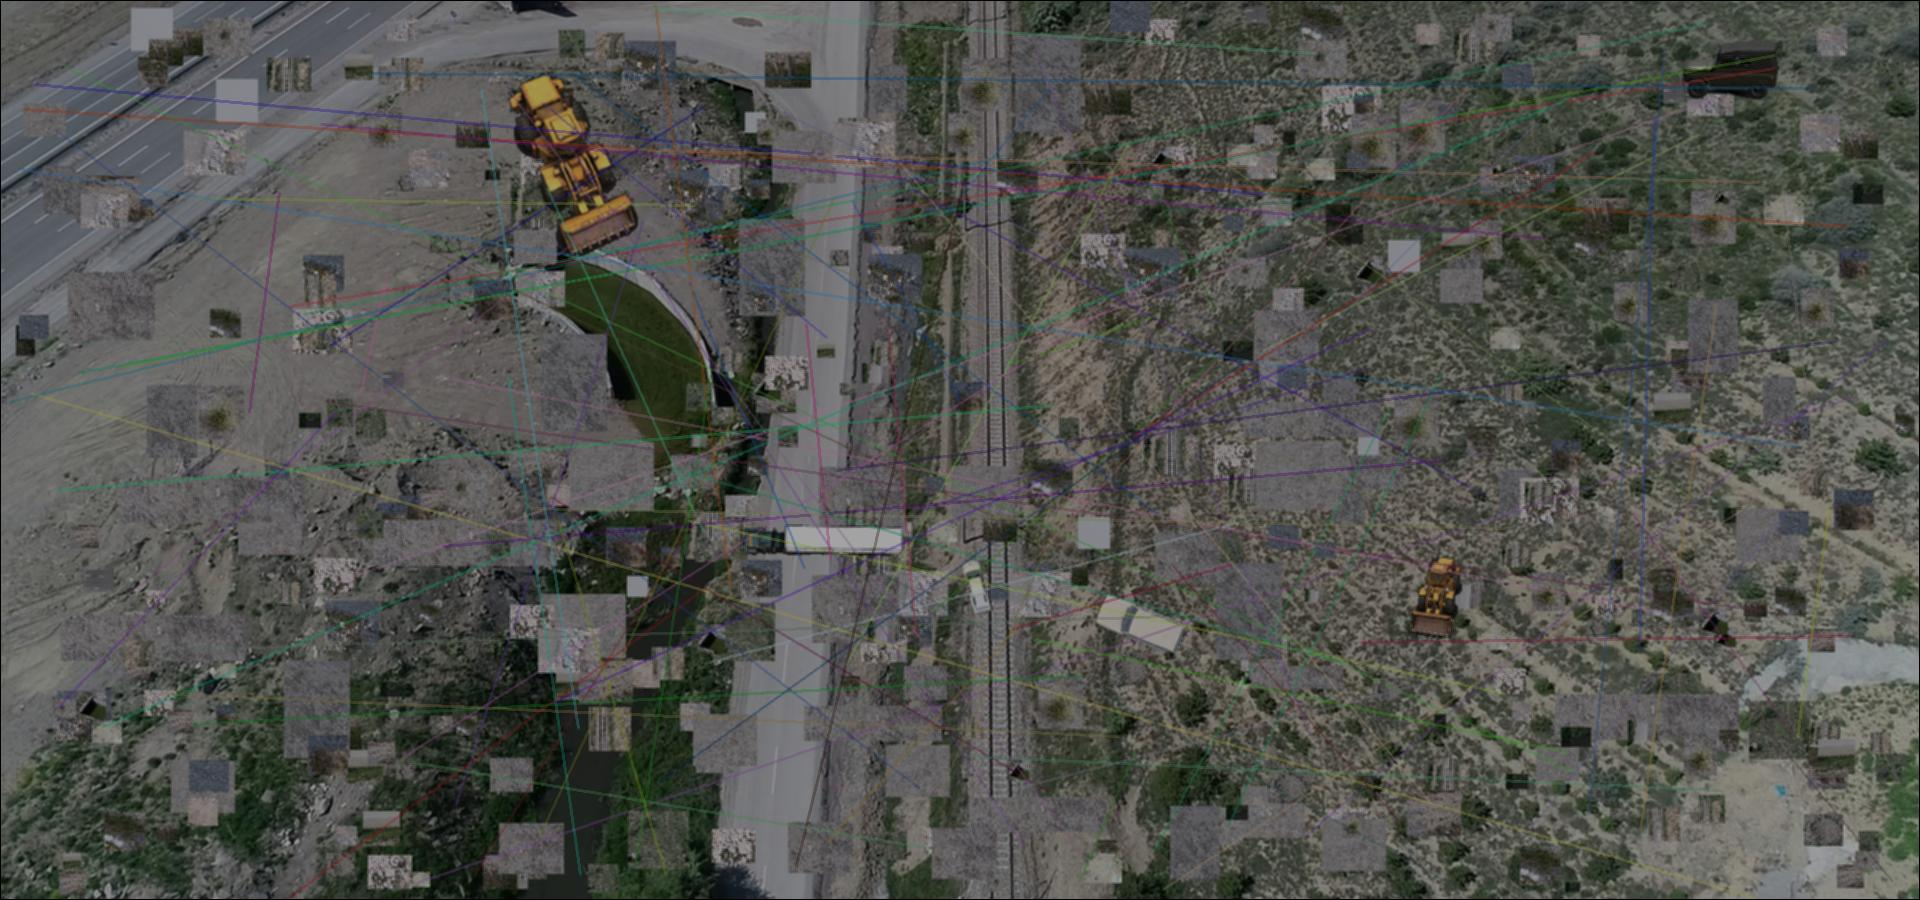arac: (493, 72, 650, 258), (743, 522, 907, 562), (1090, 591, 1189, 651), (1400, 550, 1464, 640), (1681, 40, 1779, 100), (960, 557, 994, 613)
